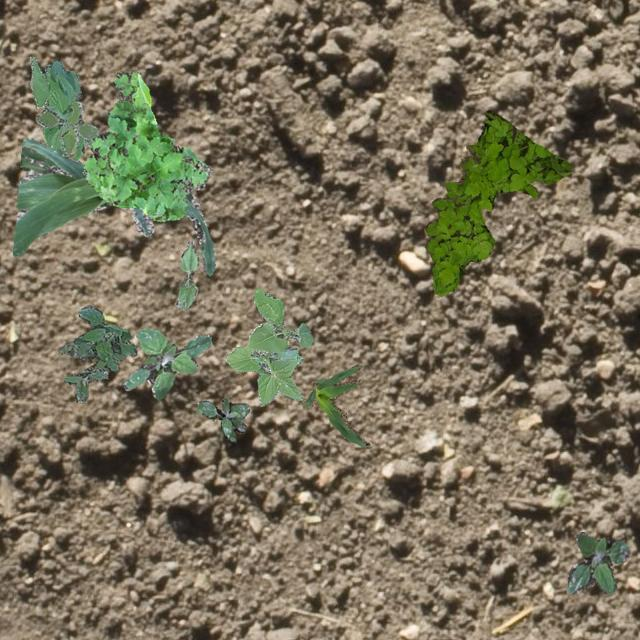crop: (12, 136, 215, 274), (28, 55, 92, 158), (302, 364, 368, 446), (175, 240, 198, 308)
weed: (424, 110, 570, 296), (82, 70, 212, 220), (225, 288, 312, 404), (58, 304, 136, 402), (122, 326, 210, 399), (566, 530, 628, 592), (34, 100, 98, 154), (196, 396, 248, 440)
